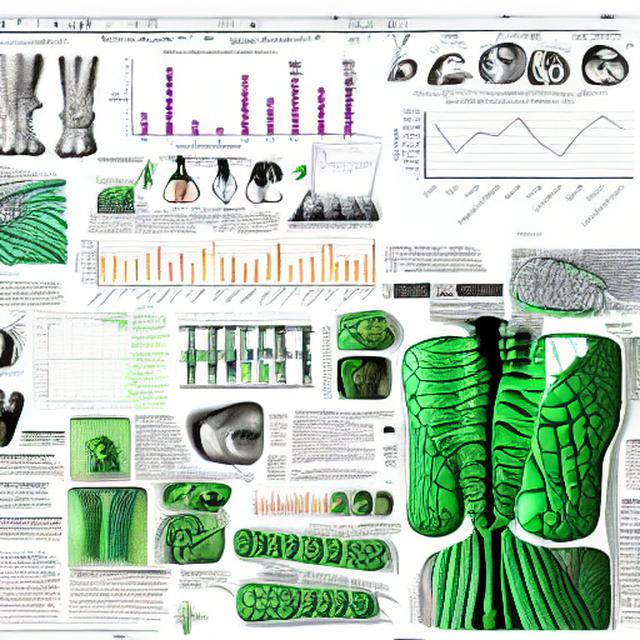Graph: (385, 86, 639, 239), (102, 46, 287, 153), (72, 226, 212, 310), (33, 356, 119, 411), (249, 483, 309, 525), (316, 143, 373, 176)
